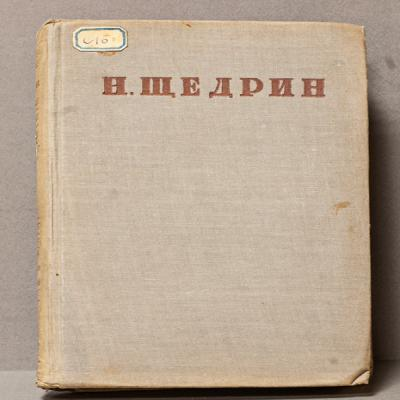rare_books: (34, 19, 374, 395)
